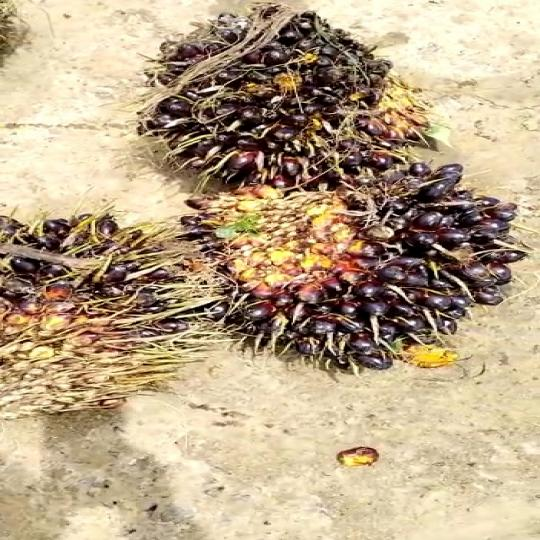mentah: (201, 158, 501, 363), (139, 0, 463, 189), (0, 208, 211, 426)
